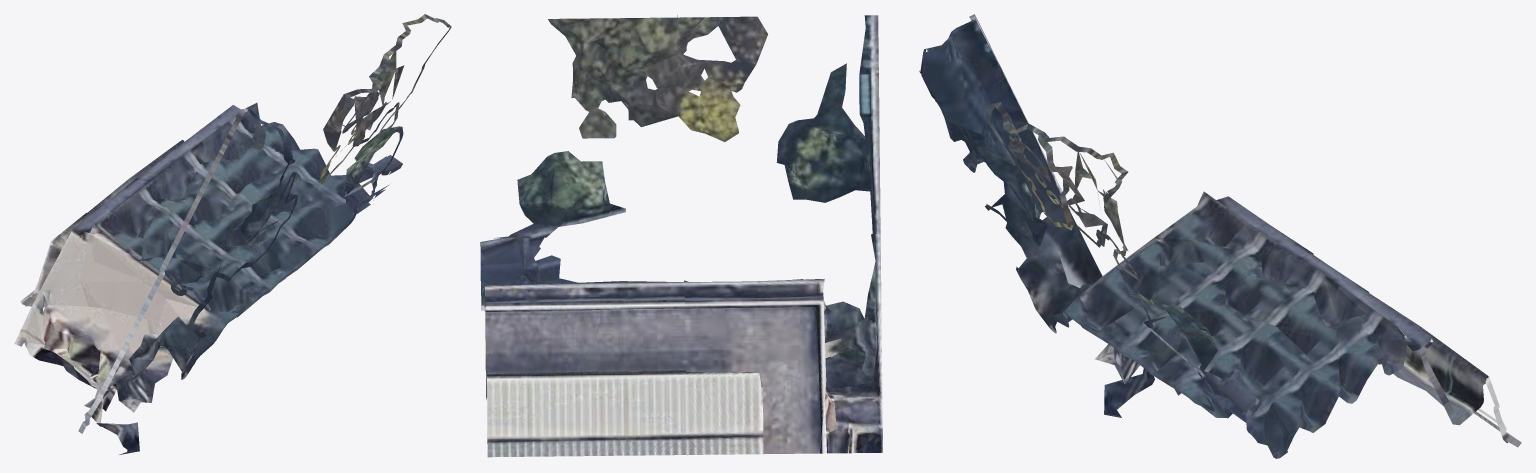
3 renders of one model, left to right at view 1: azimuth 30°, elevation 25°; view 2: azimuth 150°, elevation 25°; view 3: azimuth 270°, elevation 25°, orthographic. The views are drawn at different scales.
Size of the model in its own units: 36.95 by 36.51 by 46.38.
2 materials, 2 textured.
